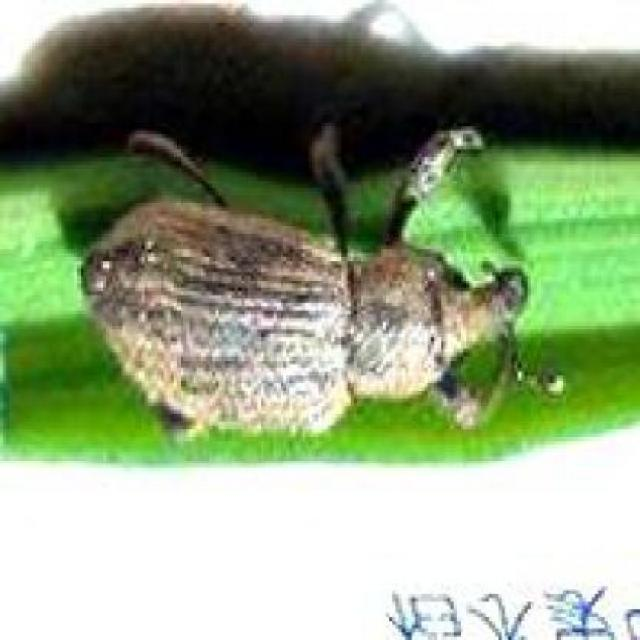rice-bug: (79, 122, 538, 444)
